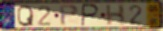2: (37, 5, 53, 27), (129, 5, 145, 26)
H: (105, 4, 126, 27)
P: (59, 4, 80, 28), (81, 3, 101, 28)
Q: (17, 4, 35, 28)
